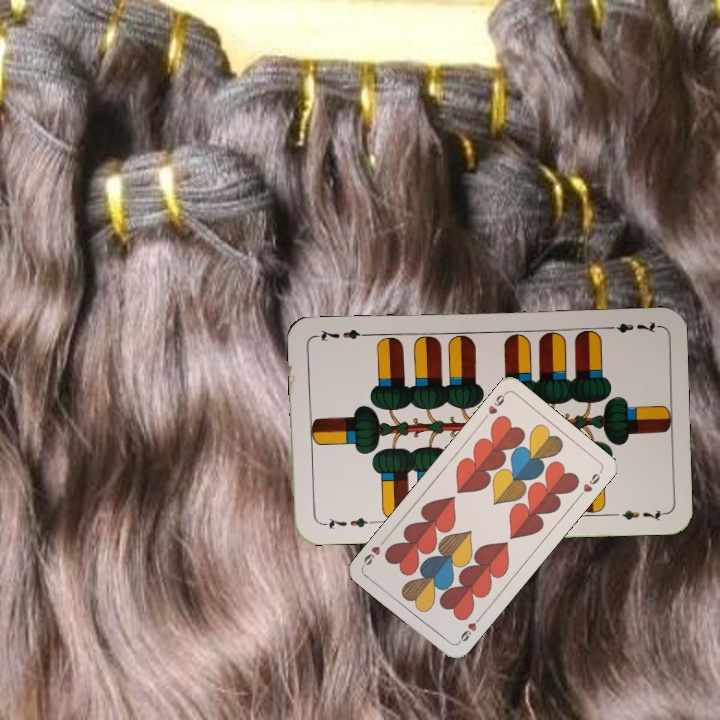E7: (317, 513, 376, 532), (602, 317, 661, 336)
H9: (453, 612, 484, 646), (479, 389, 509, 423)
